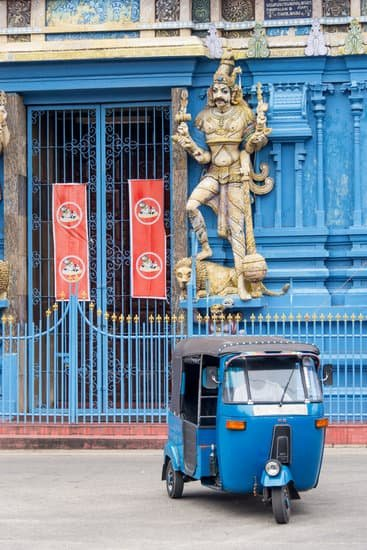threewheel: (161, 335, 333, 524)
